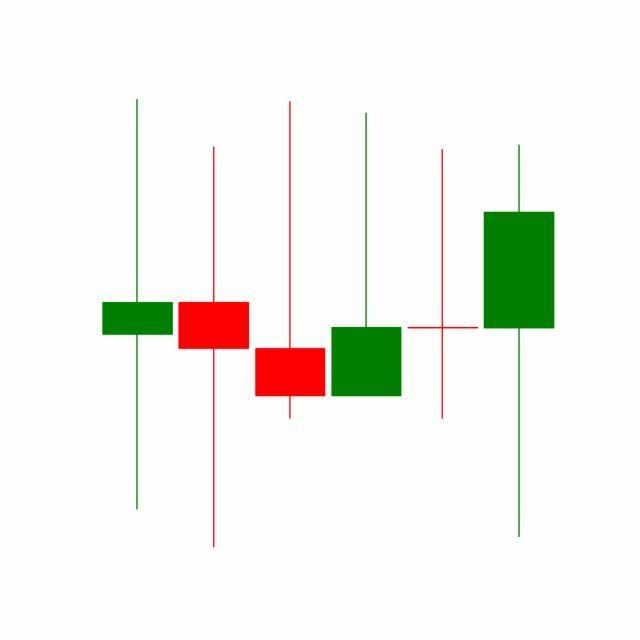Spinning Top: (404, 146, 482, 422)
